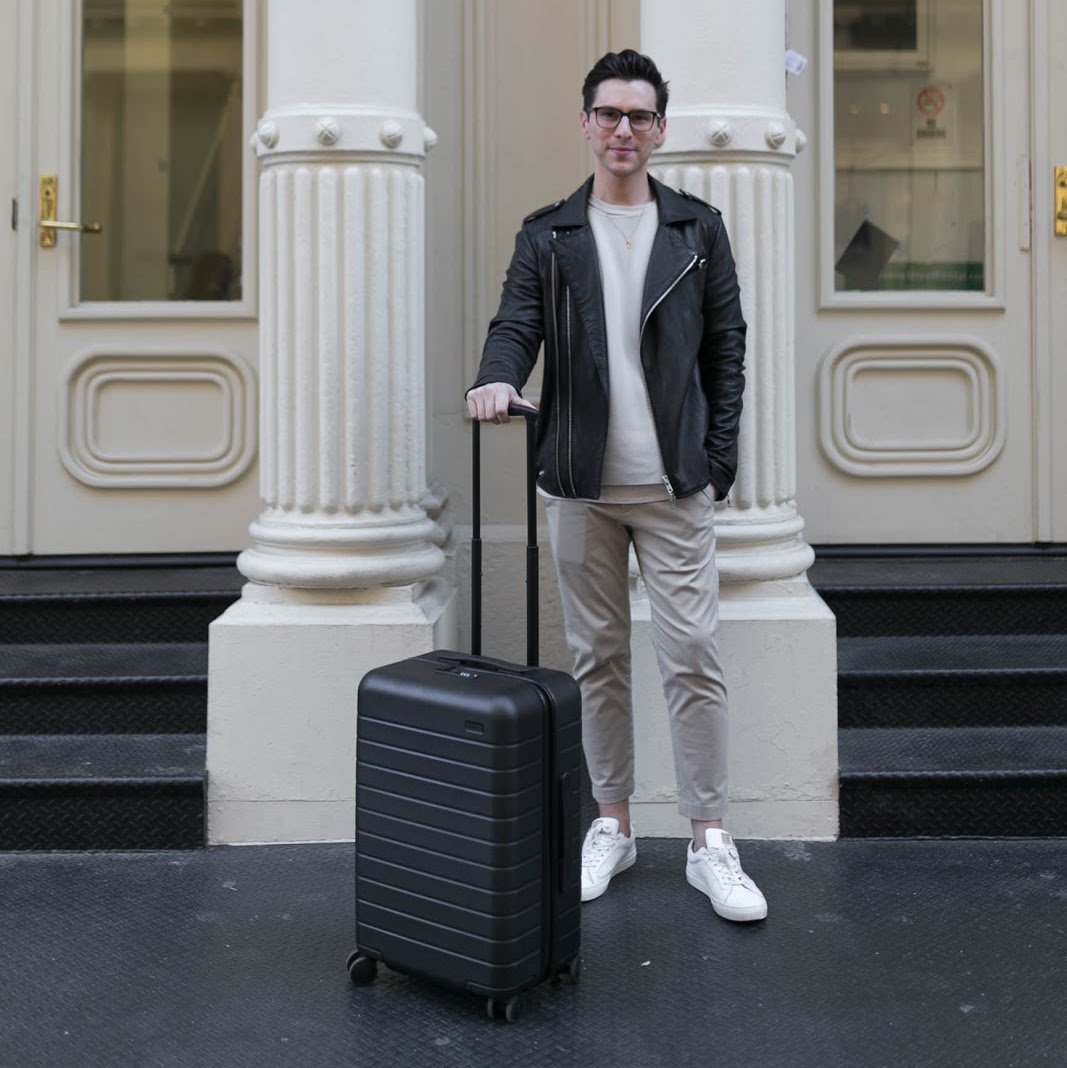luggage: (342, 655, 623, 1011)
